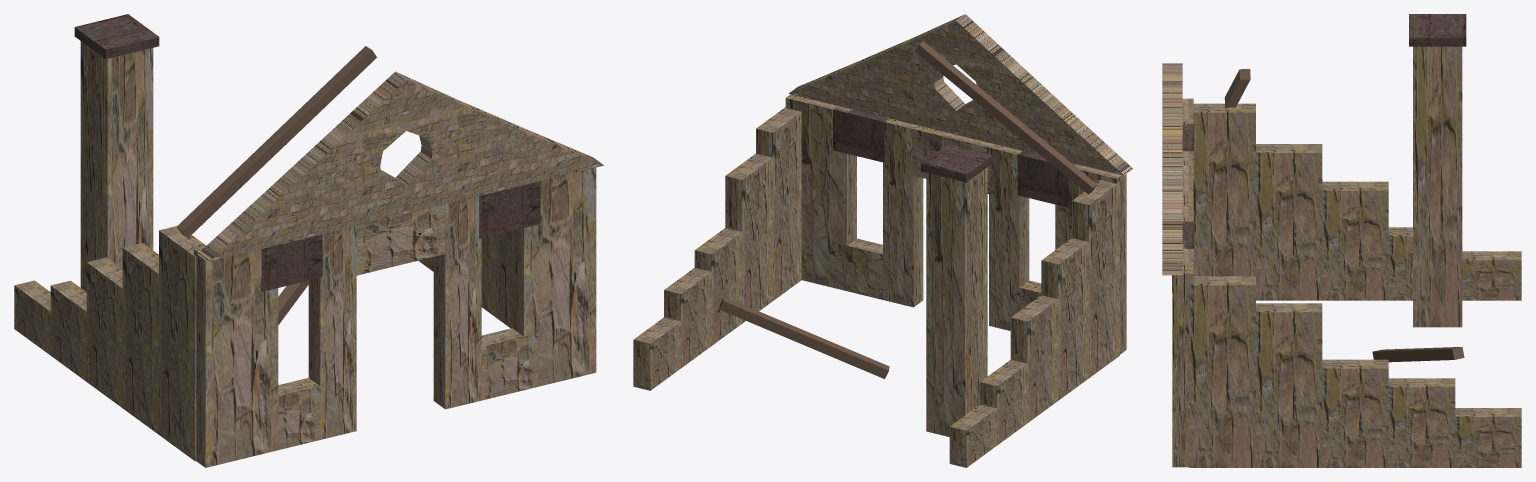
Rendered from drvar-stone-house.glb.
The picture shows the model from 3 angles, left to right: view 1: azimuth 30°, elevation 25°; view 2: azimuth 150°, elevation 25°; view 3: azimuth 270°, elevation 25°; orthographic projection. The views are drawn at different scales.
Visible parts, largest first — view 1: Fallen rafter; view 2: Fallen rafter; view 3: Fallen rafter.
Boxes of the visible parts, x1,y1,x2,y2 form: Fallen rafter: (14, 14, 604, 467); Fallen rafter: (633, 14, 1132, 467); Fallen rafter: (1162, 14, 1521, 467).
Size of the model in its own units: 7.1 by 5.9 by 6.06.
3 materials, 2 textured.
